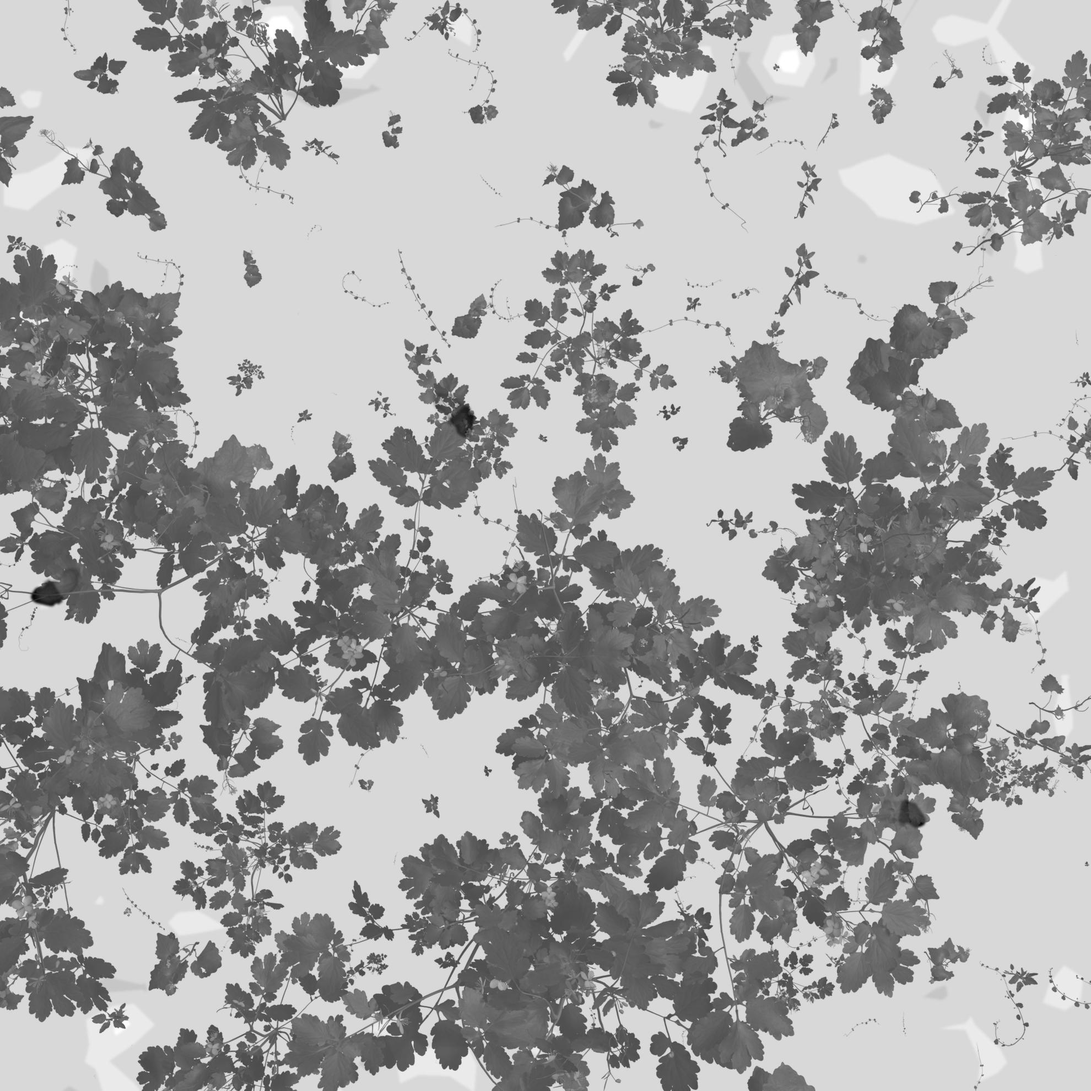landmine: (25, 561, 83, 609)
